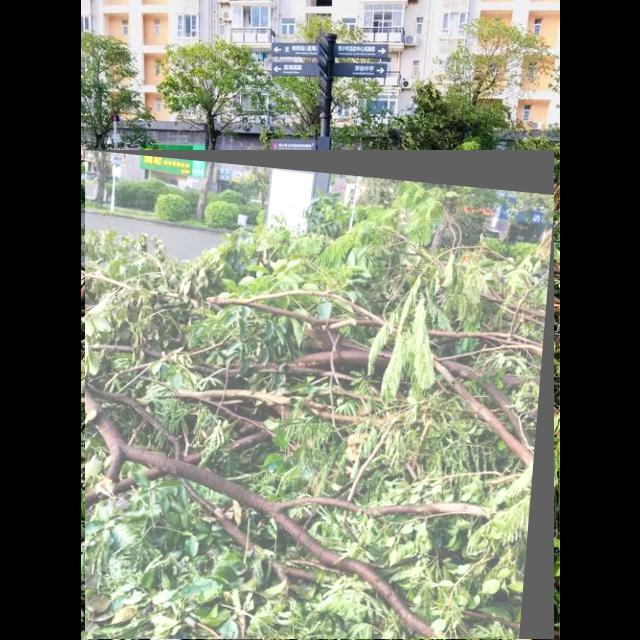fallen_tree: (85, 150, 555, 640)
